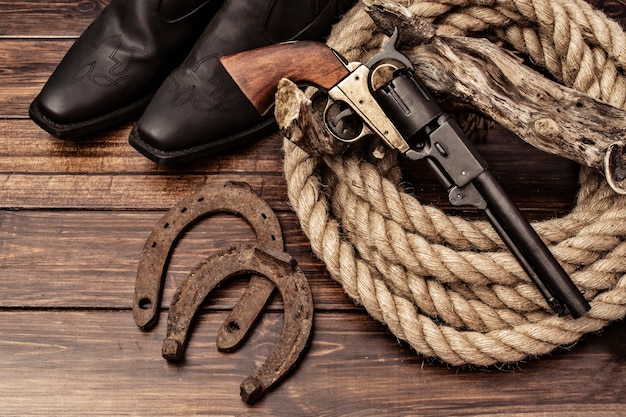gun: (217, 23, 592, 321)
